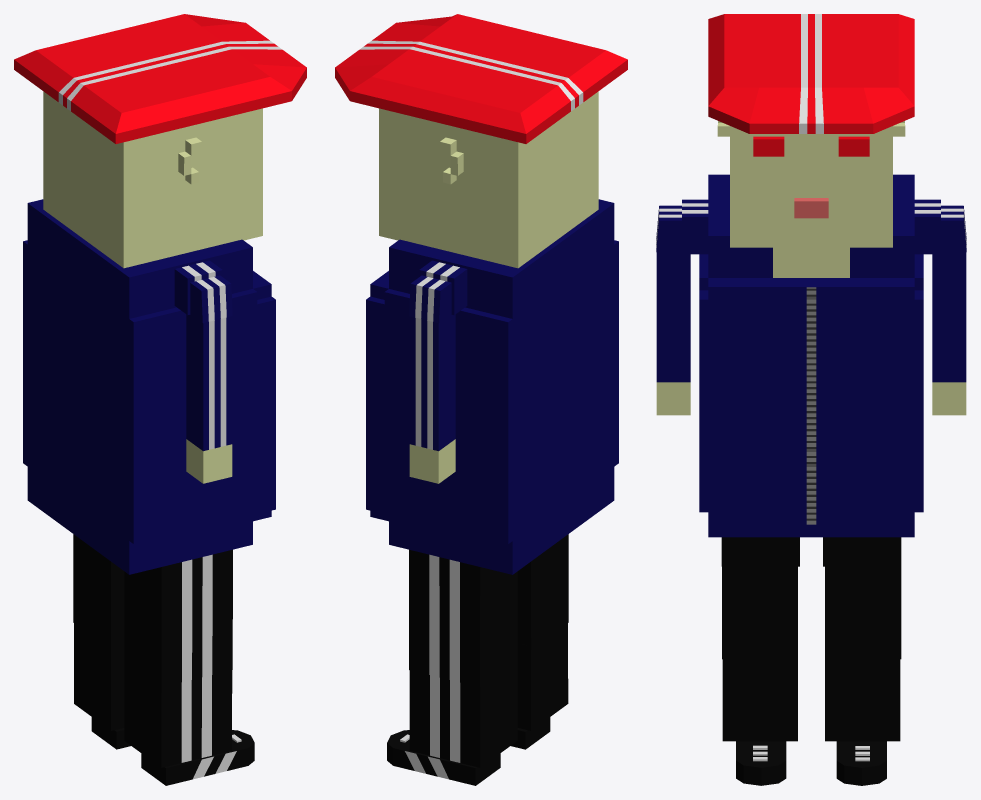
The model's file is Gopnik.fbx.
The picture shows the model from 3 angles, left to right: view 1: azimuth 30°, elevation 25°; view 2: azimuth 150°, elevation 25°; view 3: azimuth 270°, elevation 25°; orthographic projection.
Parts seen in each view (by area): view 1: Character, head, Cube, Cube.001, Cube.007, Cube.010, Cube.004, Cube.005, RightLeg, Cube.013, Cube.009, RightArm; view 2: Character, head, Cube, Cube.004, Cube.005, Cube.003, Cube.001, Cube.007, LeftLeg, Cube.006, Cube.002, Cube.000 (+2 smaller); view 3: Character, Cube, head, Cube.004, Cube.001, Cube.005, Cube.007, Cube.003, Cube.010, LeftLeg, RightLeg, Cube.013 (+6 smaller).
Part boxes in pixels (x1,y1,x2,y2): Character: (23, 199, 275, 574); head: (43, 91, 262, 268); Cube: (14, 14, 306, 143); Cube.001: (124, 571, 232, 687); Cube.007: (124, 660, 232, 767); Cube.010: (186, 314, 232, 483); Cube.004: (73, 534, 124, 649); Cube.005: (74, 623, 124, 730); RightLeg: (132, 549, 232, 595); Cube.013: (141, 730, 254, 785); Cube.009: (190, 275, 232, 323); RightArm: (174, 260, 222, 315); Character: (366, 199, 618, 574); head: (379, 91, 598, 268); Cube: (335, 14, 627, 143); Cube.004: (409, 571, 517, 687); Cube.005: (409, 660, 517, 767); Cube.003: (409, 314, 455, 483); Cube.001: (517, 534, 568, 649); Cube.007: (517, 623, 568, 730); LeftLeg: (409, 549, 509, 595); Cube.006: (387, 730, 500, 785); Cube.002: (409, 275, 451, 323); Cube.000: (387, 733, 494, 783); Character: (699, 174, 923, 537); Cube: (708, 14, 914, 133); head: (717, 121, 905, 247); Cube.004: (825, 566, 901, 659); Cube.001: (722, 566, 797, 659); Cube.005: (825, 659, 900, 741); Cube.007: (722, 659, 797, 741); Cube.003: (932, 252, 966, 415); Cube.010: (656, 252, 690, 415); LeftLeg: (823, 537, 901, 566); RightLeg: (721, 537, 799, 566); Cube.013: (736, 741, 786, 785).
Bounding box in the file's own units: 240 × 747 × 301.
